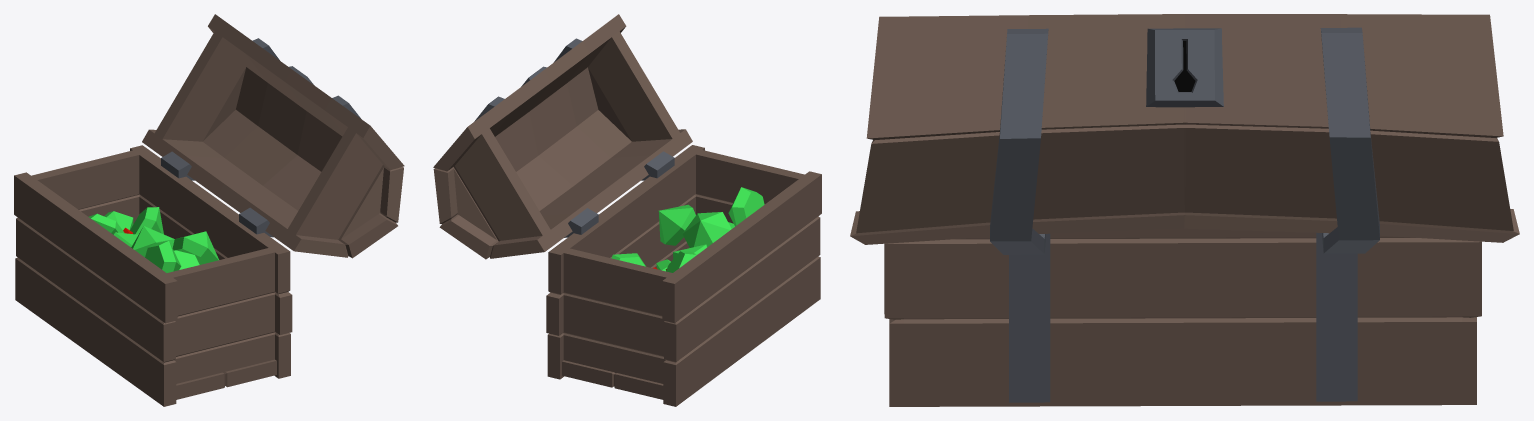
File: FORZIERE con Rubini e zaffiri.fbx
The picture shows the model from 3 angles, left to right: view 1: azimuth 30°, elevation 25°; view 2: azimuth 150°, elevation 25°; view 3: azimuth 270°, elevation 25°; orthographic projection. The views are drawn at different scales.
Visible parts, largest first — view 1: OpenChest.001; view 2: OpenChest.001; view 3: OpenChest.001.
Boxes of the visible parts, bbox=[...] form: OpenChest.001: bbox=[14, 14, 404, 406]; OpenChest.001: bbox=[433, 14, 821, 406]; OpenChest.001: bbox=[850, 14, 1519, 406].
Bounding box in the file's own units: 81.3 × 74.89 × 97.59.
